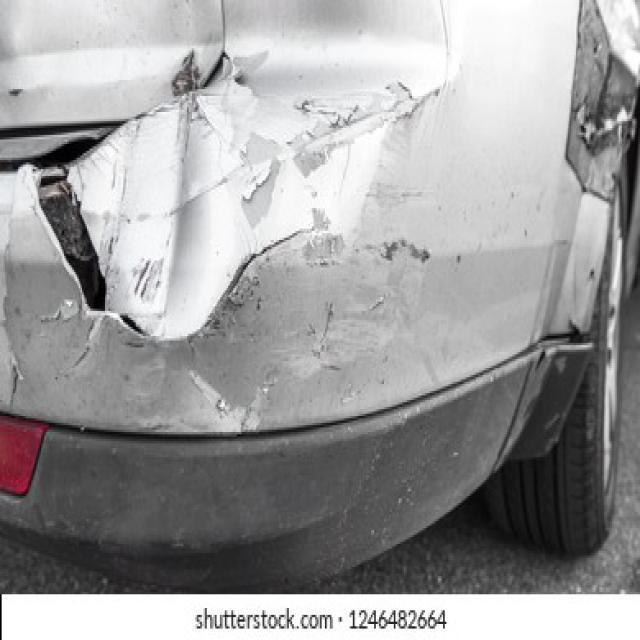rear-bumper-dent: (0, 160, 565, 578)
